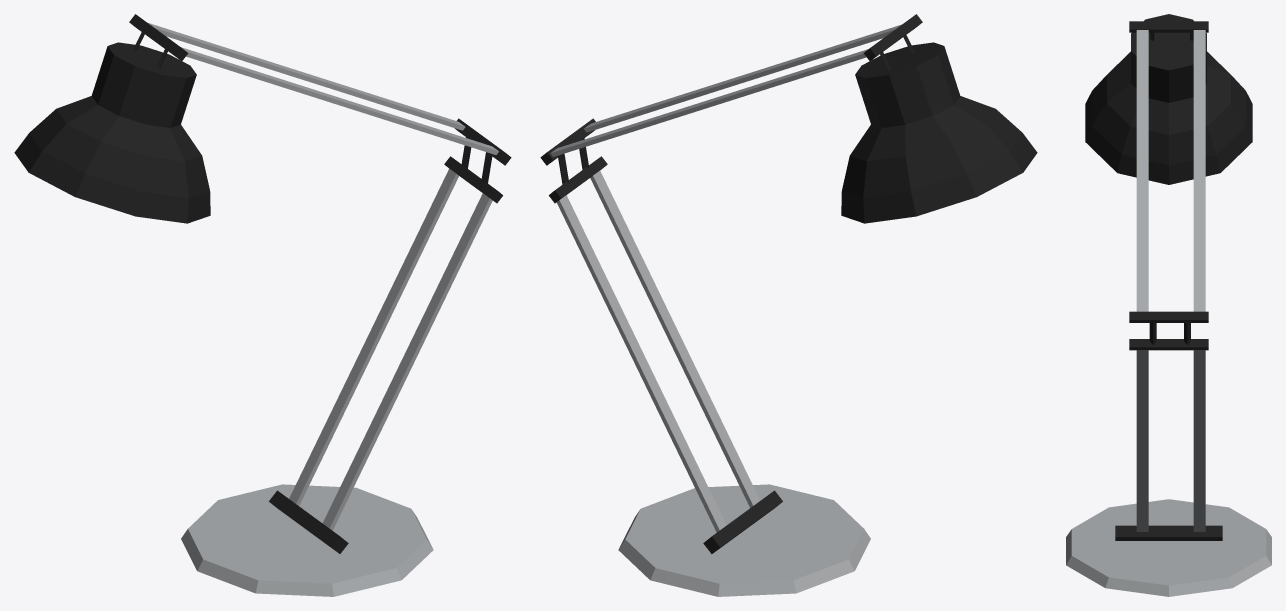
File: SM_lamp_desk.fbx
3 renders of one model, left to right at view 1: azimuth 30°, elevation 25°; view 2: azimuth 150°, elevation 25°; view 3: azimuth 270°, elevation 25°, orthographic. The views are drawn at different scales.
Parts seen in each view (by area): view 1: Cylinder003; view 2: Cylinder003; view 3: Cylinder003.
Part boxes in pixels (<box>): Cylinder003: <box>14,14,511,596</box>; Cylinder003: <box>540,14,1037,596</box>; Cylinder003: <box>1066,14,1271,596</box>.
Size of the model in its own units: 31.63 by 36.14 by 14.4.
